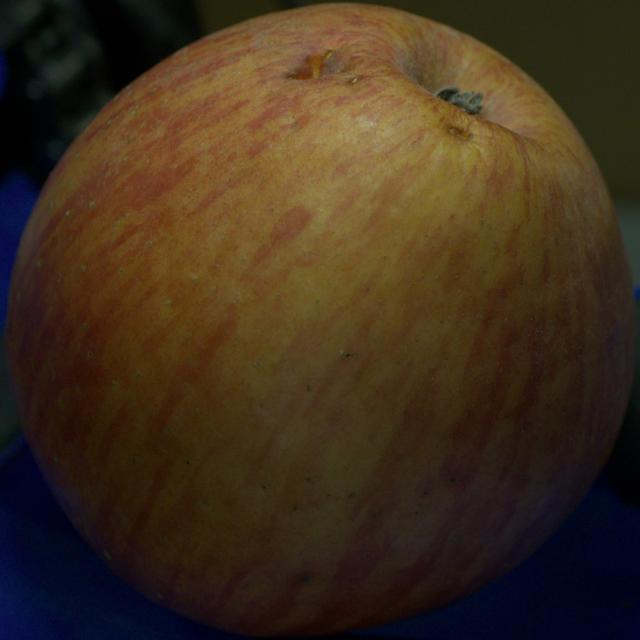apple: (6, 4, 635, 634)
scratch: (286, 50, 342, 79), (449, 127, 471, 139)
